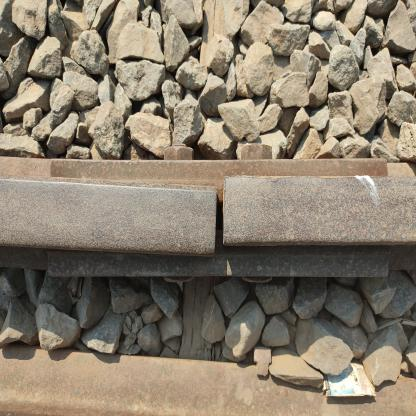Defective: (55, 136, 362, 308)
